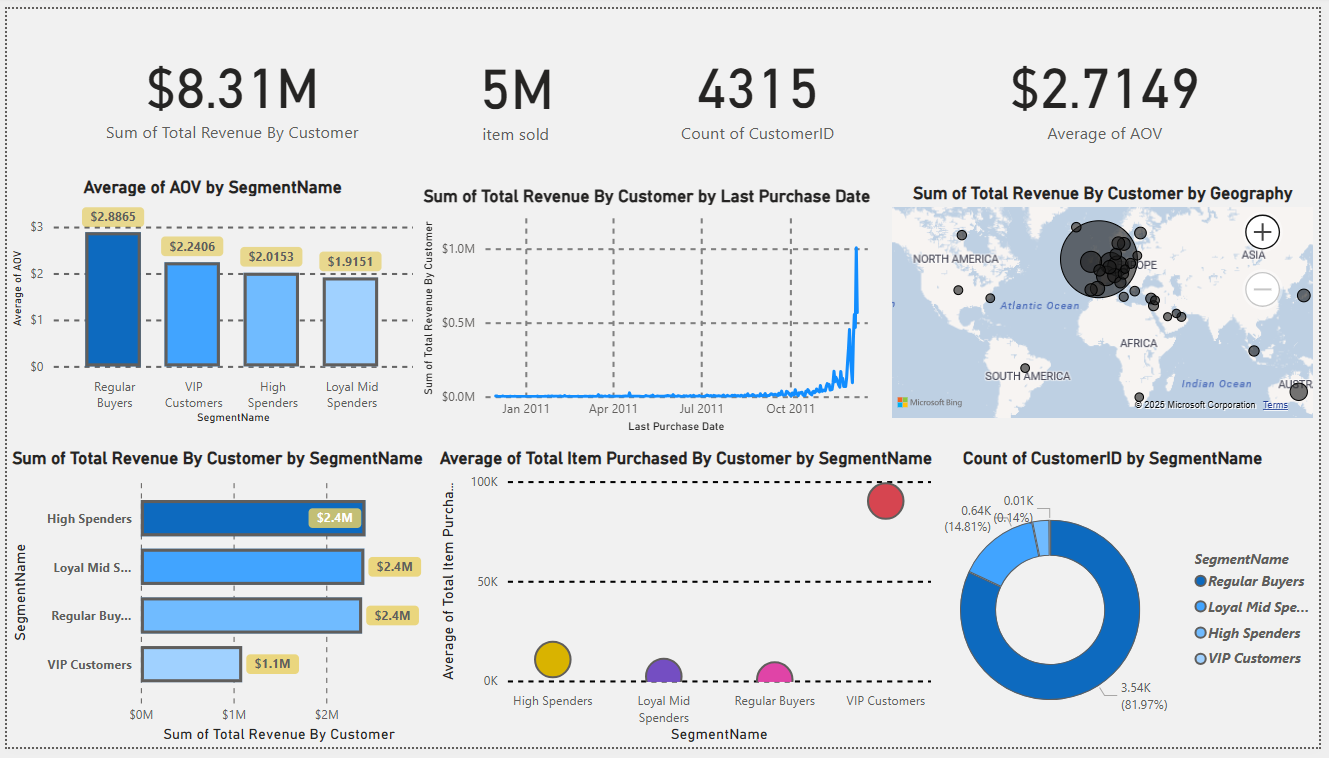

What the dashboard file says about the page in this screenshot:
{"tool":"powerbi","page":{"name":"Page 1","canvas":[1280,720],"ordinal":0},"visuals":[{"type":"donutChart","fields":{"Category":["Online Retail.SegmentName"],"Y":["Count(Online Retail.CustomerID)"]},"box":[876.2,427.5,403.8,292.5],"z":0},{"type":"barChart","fields":{"Y":["Sum(Online Retail.Total Revenue By Customer)"],"Category":["Online Retail.SegmentName"]},"box":[0,427.5,417.5,292.5],"z":6000},{"type":"clusteredColumnChart","fields":{"Y":["Avg(Online Retail.AOV)"],"Category":["Online Retail.SegmentName"]},"box":[0,163.8,401.2,246.2],"z":6001},{"type":"scatterChart","fields":{"X":["Online Retail.SegmentName"],"Y":["Avg(Online Retail.Total Item Purchased By Customer)"]},"box":[417.5,427.5,496.2,292.5],"z":6002},{"type":"map","fields":{"Category":["Online Retail.Geography"],"Size":["Sum(Online Retail.Total Revenue By Customer)"]},"box":[858.8,170,421.2,233.8],"z":6004},{"type":"card","fields":{"Values":["Sum(Online Retail.Total Revenue By Customer)"]},"box":[55,7.5,330,148.8],"z":6005},{"type":"card","fields":{"Values":["Sum(Online Retail.Total Item Purchased By Customer)"]},"box":[336.2,7.5,320,151.2],"z":6006},{"type":"card","fields":{"Values":["CountNonNull(Online Retail.CustomerID)"]},"box":[568.8,0,328.8,163.8],"z":6007},{"type":"card","fields":{"Values":["Avg(Online Retail.AOV)"]},"box":[925,0,291.2,163.8],"z":6008},{"type":"lineChart","fields":{"Category":["Online Retail.Last Purchase Date"],"Y":["Sum(Online Retail.Total Revenue By Customer)"]},"box":[401.2,172.5,457.5,246.2],"z":6009}]}

Visuals, with their boxes in screenshot pixels (x1, y1, x2, y2), scaled from the page's 1280x720 canvas onto the 1329x758 screenshot:
donutChart - Online Retail.SegmentName x Count(Online Retail.CustomerID): crop(910, 450, 1328, 757)
barChart - Sum(Online Retail.Total Revenue By Customer) x Online Retail.SegmentName: crop(0, 450, 433, 757)
clusteredColumnChart - Avg(Online Retail.AOV) x Online Retail.SegmentName: crop(0, 172, 417, 432)
scatterChart - Online Retail.SegmentName x Avg(Online Retail.Total Item Purchased By Customer): crop(433, 450, 949, 757)
map - Online Retail.Geography x Sum(Online Retail.Total Revenue By Customer): crop(892, 179, 1328, 425)
card - Sum(Online Retail.Total Revenue By Customer): crop(57, 8, 400, 165)
card - Sum(Online Retail.Total Item Purchased By Customer): crop(349, 8, 681, 167)
card - CountNonNull(Online Retail.CustomerID): crop(591, 0, 932, 172)
card - Avg(Online Retail.AOV): crop(960, 0, 1263, 172)
lineChart - Online Retail.Last Purchase Date x Sum(Online Retail.Total Revenue By Customer): crop(417, 182, 892, 441)
